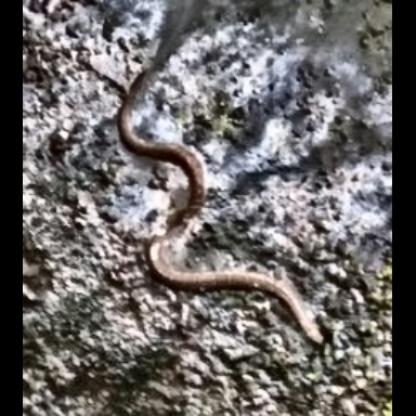Snake: (112, 0, 329, 347)
